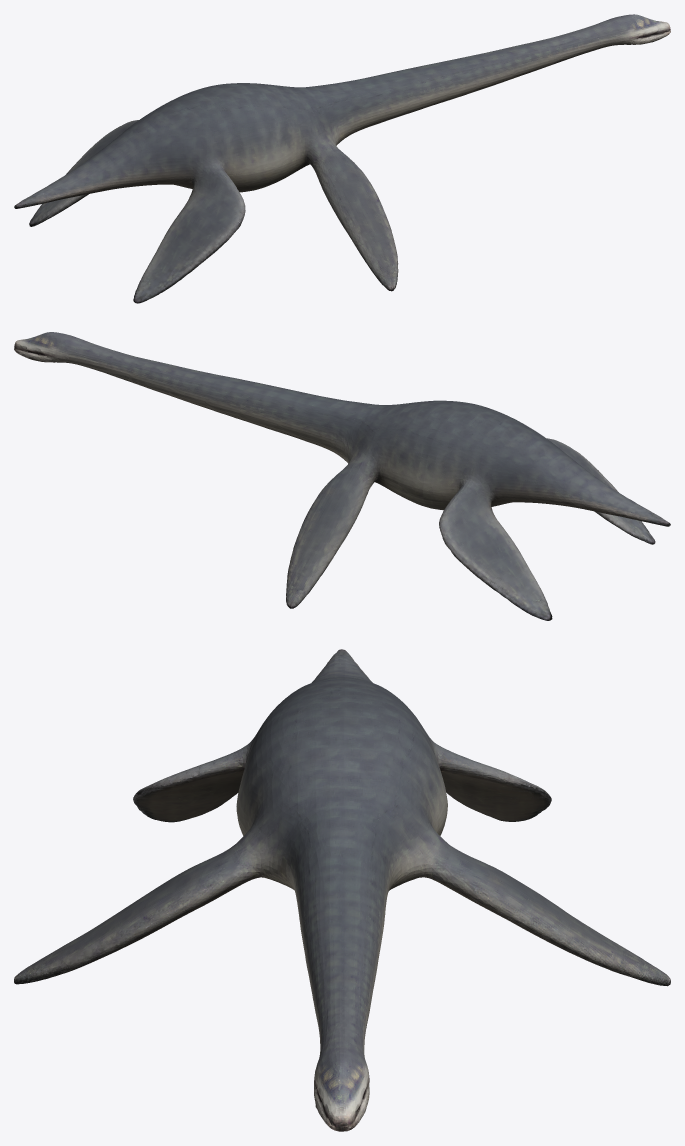
3 views of the same model, one above another, from view 1: azimuth 30°, elevation 25°; view 2: azimuth 150°, elevation 25°; view 3: azimuth 270°, elevation 25° (orthographic). The views are drawn at different scales.
Visible parts, largest first — view 1: world; view 2: world; view 3: world.
Boxes of the visible parts, left/top/right/bottom form: world: left=14, top=14, right=670, bottom=303; world: left=14, top=332, right=670, bottom=620; world: left=14, top=649, right=670, bottom=1131.
Size of the model in its own units: 1 by 0.202 by 0.5475.
1 material, 1 textured.
